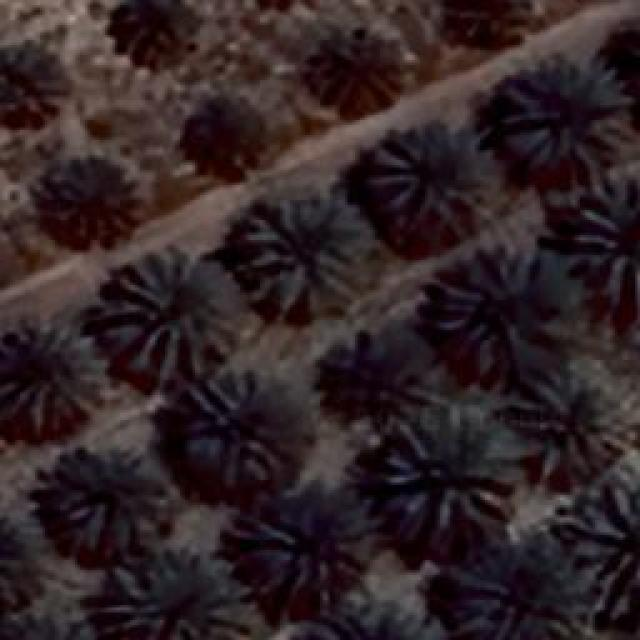PalmTree: (144, 47, 605, 558), (65, 135, 375, 617), (98, 250, 238, 380), (432, 250, 572, 365), (495, 52, 630, 168), (235, 195, 363, 315), (382, 420, 520, 530), (39, 442, 172, 556), (365, 122, 495, 235), (98, 547, 252, 635), (180, 372, 302, 480), (525, 365, 633, 480), (458, 540, 580, 640), (0, 320, 110, 430), (251, 494, 361, 598), (46, 154, 142, 254), (570, 168, 638, 302), (332, 328, 440, 408), (106, 0, 196, 70), (314, 38, 396, 106), (184, 96, 258, 169), (0, 44, 60, 128), (455, 0, 530, 55), (0, 613, 104, 640), (0, 528, 35, 608), (624, 10, 640, 126), (629, 12, 640, 124)
